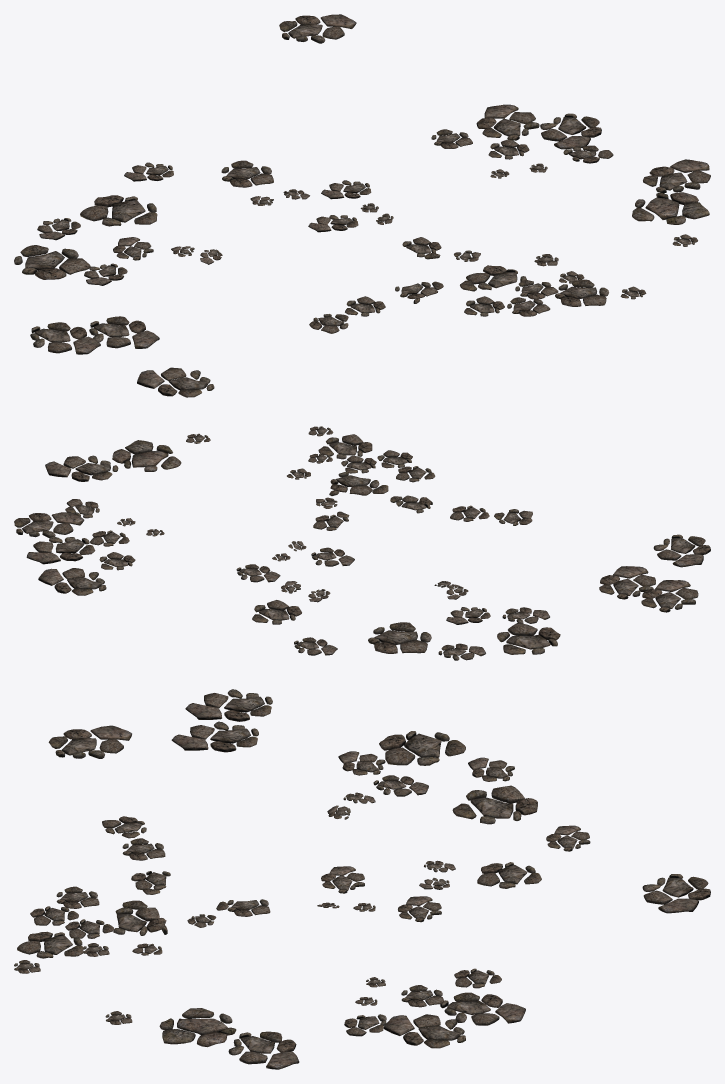
Rendered from mars_ground_cracks.dae.
The picture shows the model from 3 angles, top to bottom: view 1: azimuth 30°, elevation 25°; view 2: azimuth 150°, elevation 25°; view 3: azimuth 270°, elevation 25°; orthographic projection. The views are drawn at different scales.
Parts seen in each view (by area): view 1: ground_flatrocks35, ground_flatrocks06, ground_flatrocks05, ground_flatrocks17, ground_flatrocks09, ground_flatrocks08, ground_flatrocks11, ground_flatrocks12, ground_flatrocks07, ground_flatrocks10, ground_flatrocks16, ground_flatrocks04 (+7 smaller); view 2: ground_flatrocks05, ground_flatrocks35, ground_flatrocks06, ground_flatrocks09, ground_flatrocks07, ground_flatrocks12, ground_flatrocks10, ground_flatrocks08, ground_flatrocks11, ground_flatrocks17, ground_flatrocks33, ground_flatrocks16 (+17 smaller); view 3: ground_flatrocks05, ground_flatrocks35, ground_flatrocks06, ground_flatrocks11, ground_flatrocks10, ground_flatrocks08, ground_flatrocks07, ground_flatrocks17, ground_flatrocks09, ground_flatrocks12, ground_flatrocks33, ground_flatrocks16 (+17 smaller).
Part boxes in pixels (x1,y1,x2,y2): ground_flatrocks35: [14, 245, 90, 279]; ground_flatrocks06: [632, 192, 709, 224]; ground_flatrocks05: [80, 195, 157, 226]; ground_flatrocks17: [279, 14, 356, 43]; ground_flatrocks09: [643, 159, 710, 193]; ground_flatrocks08: [476, 104, 539, 140]; ground_flatrocks11: [137, 367, 214, 397]; ground_flatrocks12: [89, 316, 159, 348]; ground_flatrocks07: [540, 113, 601, 149]; ground_flatrocks10: [30, 322, 100, 354]; ground_flatrocks16: [555, 279, 608, 306]; ground_flatrocks04: [221, 160, 273, 187]; ground_flatrocks05: [368, 622, 431, 653]; ground_flatrocks35: [497, 623, 560, 654]; ground_flatrocks06: [112, 440, 181, 471]; ground_flatrocks09: [45, 455, 118, 481]; ground_flatrocks07: [14, 512, 84, 538]; ground_flatrocks12: [599, 566, 655, 599]; ground_flatrocks10: [641, 580, 698, 612]; ground_flatrocks08: [26, 536, 95, 564]; ground_flatrocks11: [653, 534, 710, 567]; ground_flatrocks17: [38, 568, 106, 595]; ground_flatrocks33: [329, 472, 388, 495]; ground_flatrocks16: [318, 434, 372, 459]; ground_flatrocks05: [452, 785, 537, 824]; ground_flatrocks35: [379, 731, 465, 765]; ground_flatrocks06: [159, 1008, 236, 1047]; ground_flatrocks11: [48, 725, 131, 758]; ground_flatrocks10: [185, 689, 272, 721]; ground_flatrocks08: [440, 992, 525, 1025]; ground_flatrocks07: [383, 1014, 465, 1048]; ground_flatrocks17: [642, 874, 710, 913]; ground_flatrocks09: [228, 1031, 299, 1069]; ground_flatrocks12: [171, 721, 258, 752]; ground_flatrocks33: [113, 900, 167, 935]; ground_flatrocks16: [17, 931, 83, 958].
Bounding box in the file's own units: 126 × 98.9 × 11.66.
1 material, 1 textured.
